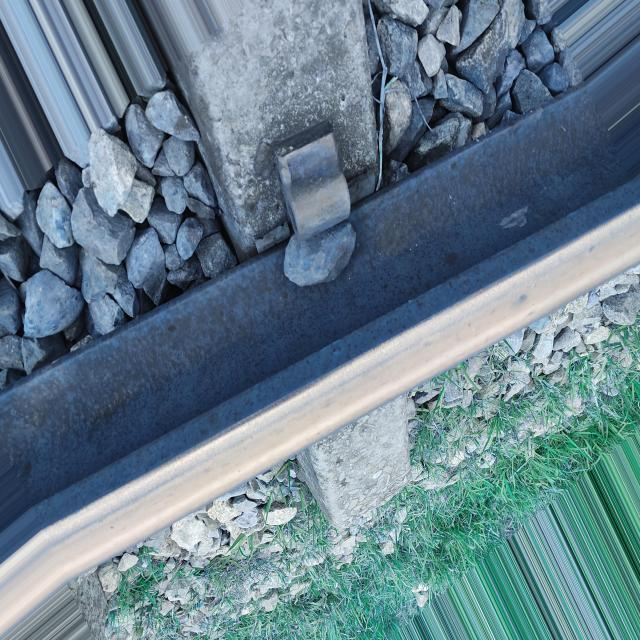Missing Fastener: (176, 0, 377, 286)
